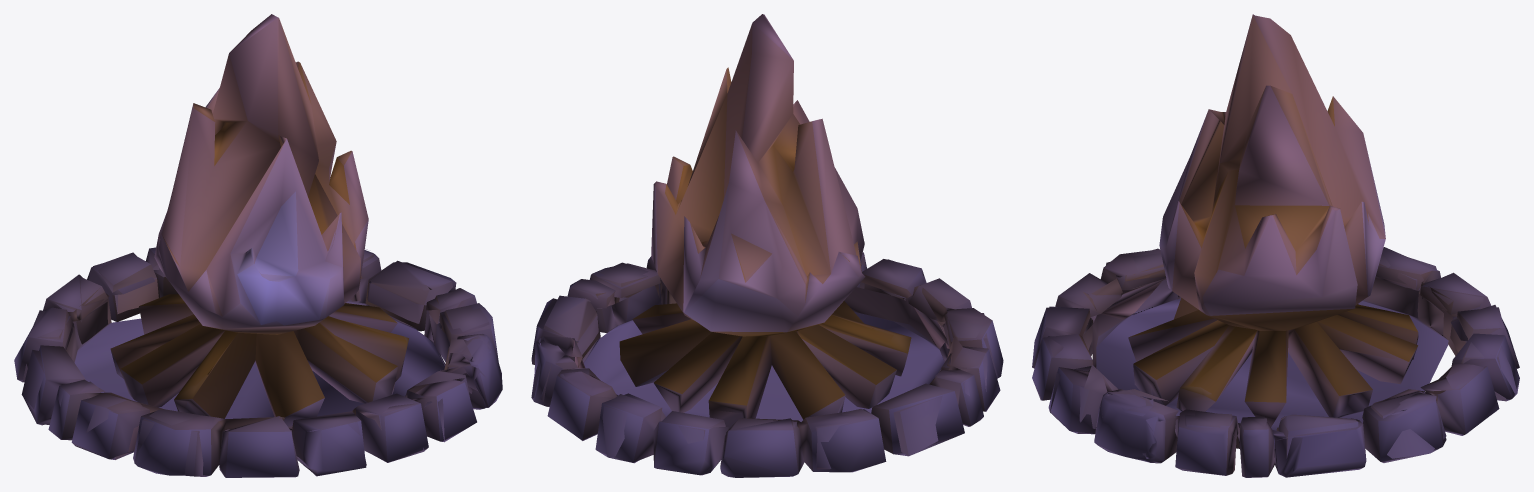
File: model.progressive.glb
3 renders of one model, left to right at view 1: azimuth 30°, elevation 25°; view 2: azimuth 150°, elevation 25°; view 3: azimuth 270°, elevation 25°, orthographic. The views are drawn at different scales.
Parts seen in each view (by area): view 1: material; view 2: material; view 3: material.
Part boxes in pixels (left/top/right/bottom): material: left=14, top=14, right=502, bottom=477; material: left=531, top=14, right=1003, bottom=477; material: left=1032, top=14, right=1519, bottom=477.
Bounding box in the file's own units: 1.89 × 1.55 × 1.86.
1 material, 1 textured.
